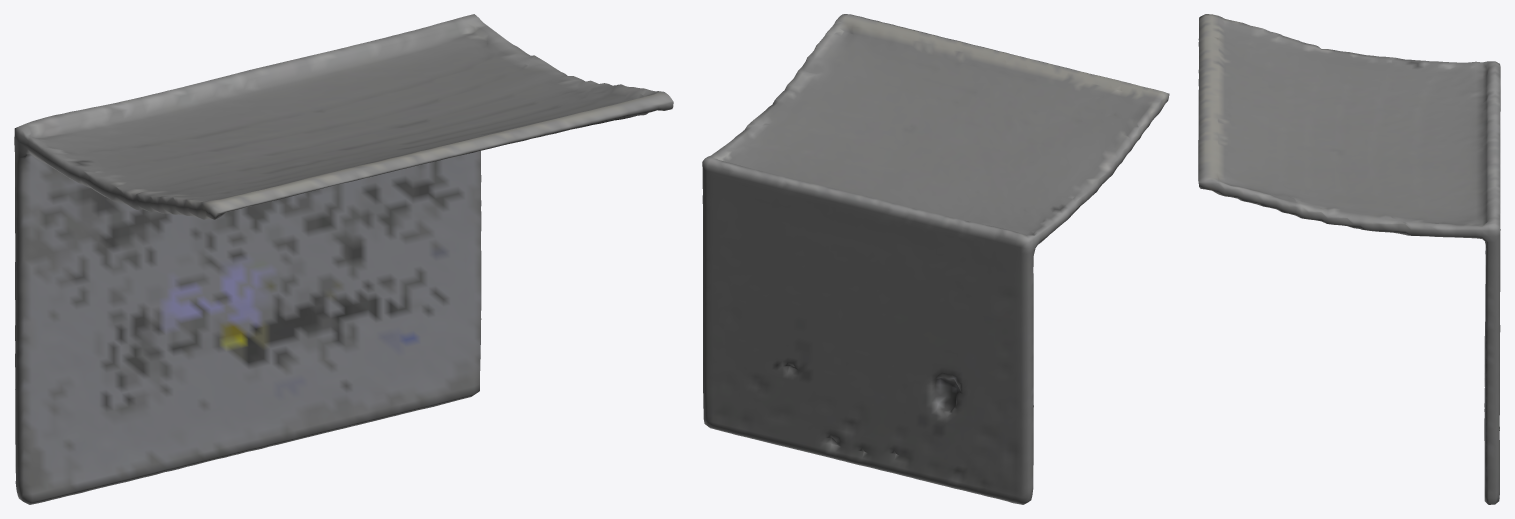
Rendered from a pressable laptop.obj.
The picture shows the model from 3 angles, left to right: view 1: azimuth 30°, elevation 25°; view 2: azimuth 150°, elevation 25°; view 3: azimuth 270°, elevation 25°; orthographic projection. The views are drawn at different scales.
Size of the model in its own units: 1 by 0.9138 by 0.7613.
